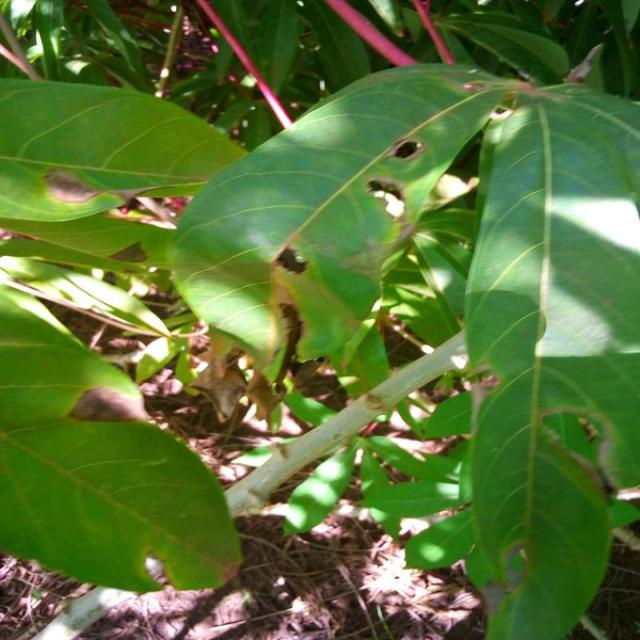cassava leaf: (167, 59, 529, 396), (462, 82, 638, 637), (0, 281, 244, 594), (0, 75, 249, 223)
